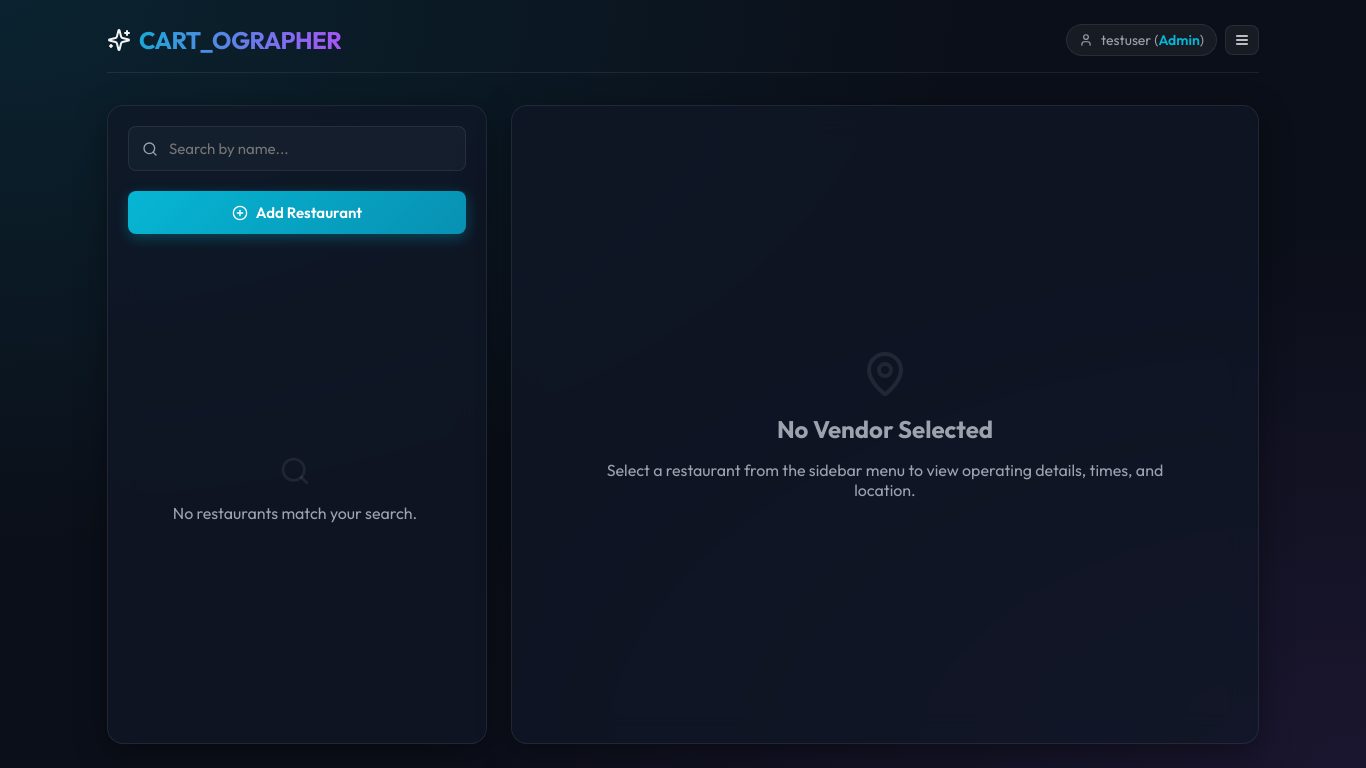
it: Web UI - App Component › Admin sees Approvals navigation tab
Click the button named "menu" at (1242, 40), box [1225,25,1259,55]
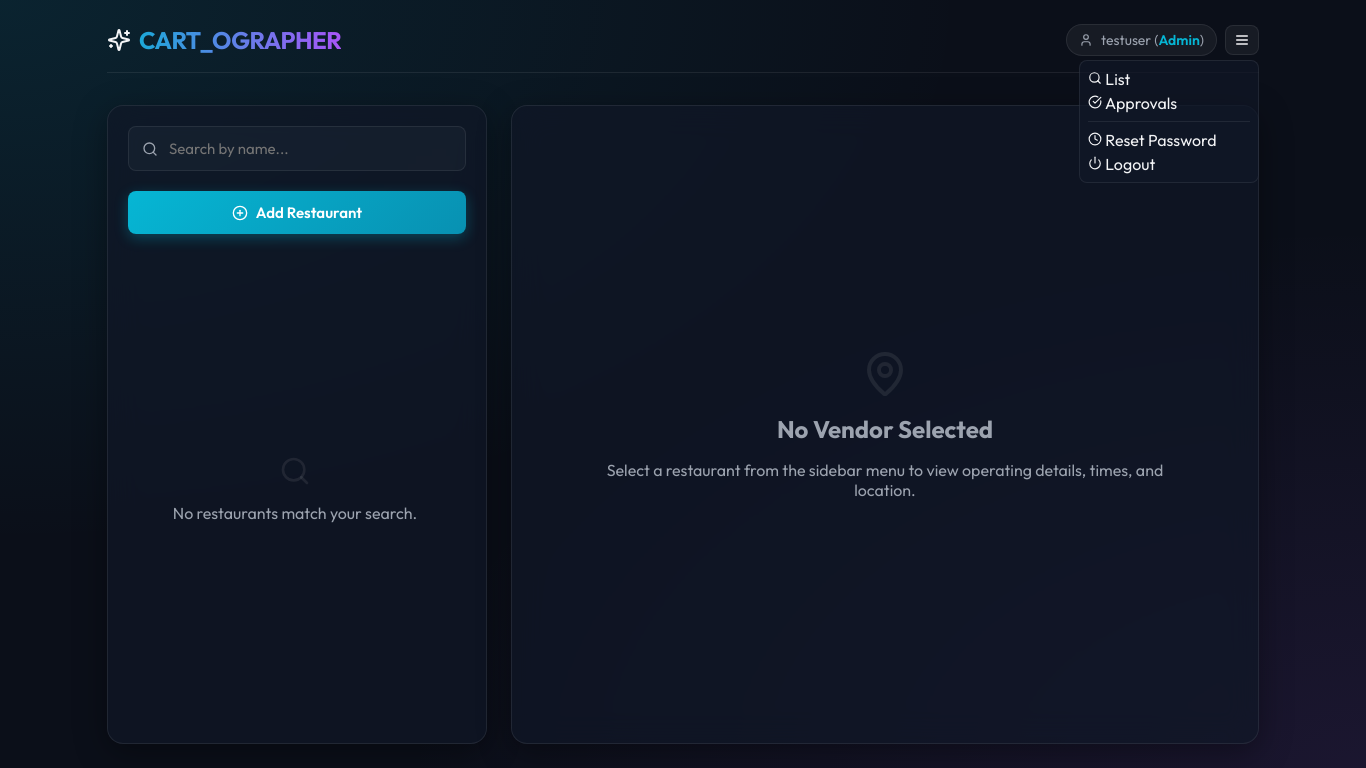
Check: the text "Approvals" is shown, box [1088,93,1177,113]
